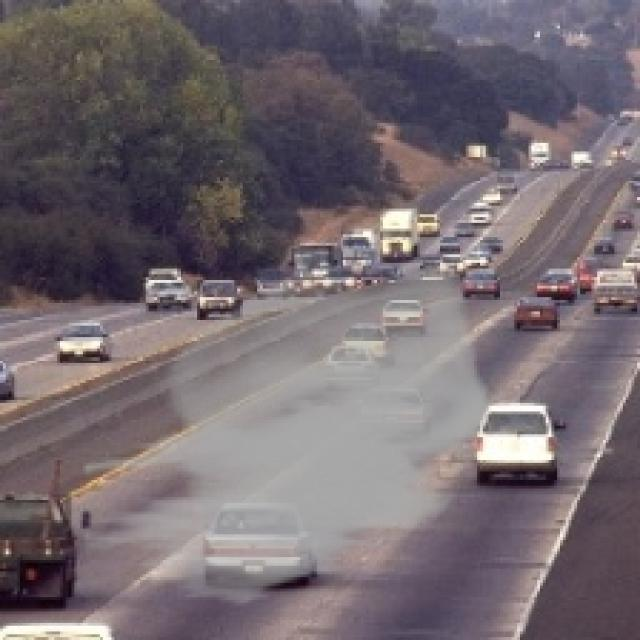Smoke: (80, 260, 492, 609)
